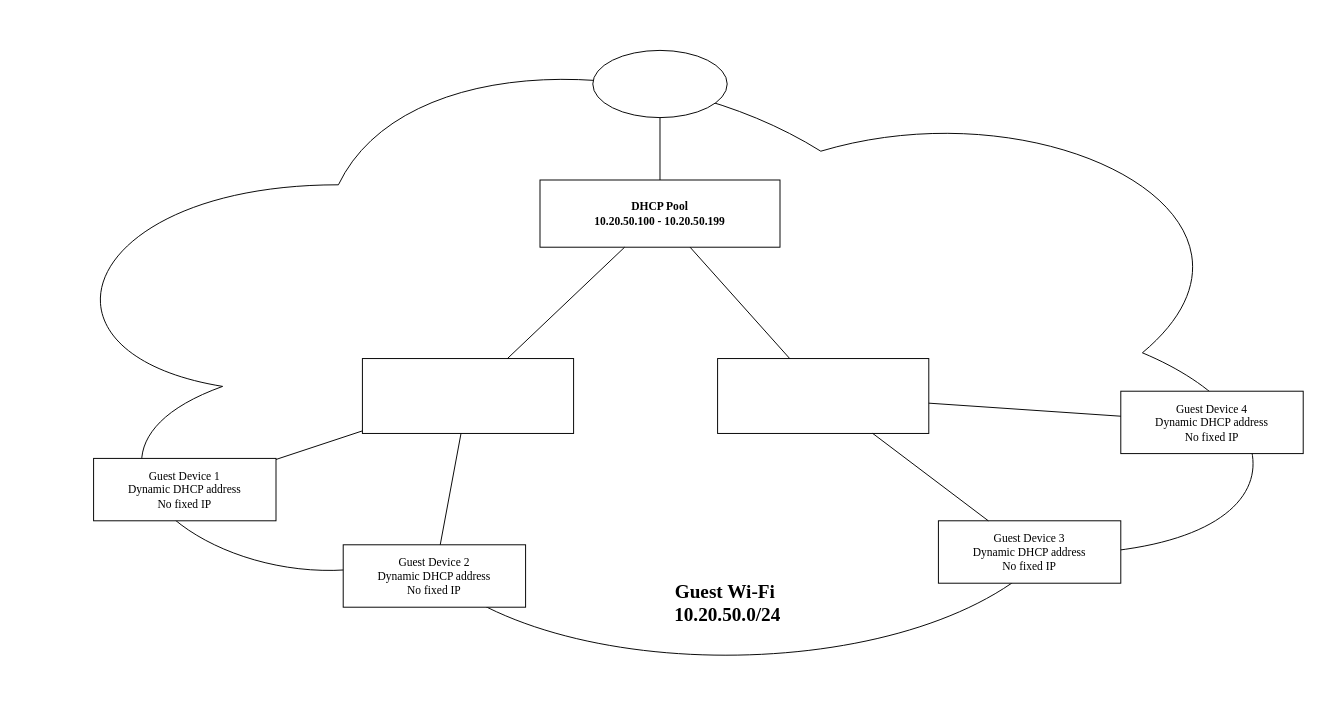
Some shapes in this 1320 by 706 pixel diagram are drawn without their labels. Each missing label, with the centre of its shape:
"Gateway 10.20.50.1/24" belongs at [659,83].
"Guest AP 1 SSID: Guest Client addresses via DHCP" belongs at [467,395].
"Guest AP 2 SSID: Guest Client addresses via DHCP" belongs at [823,395].
